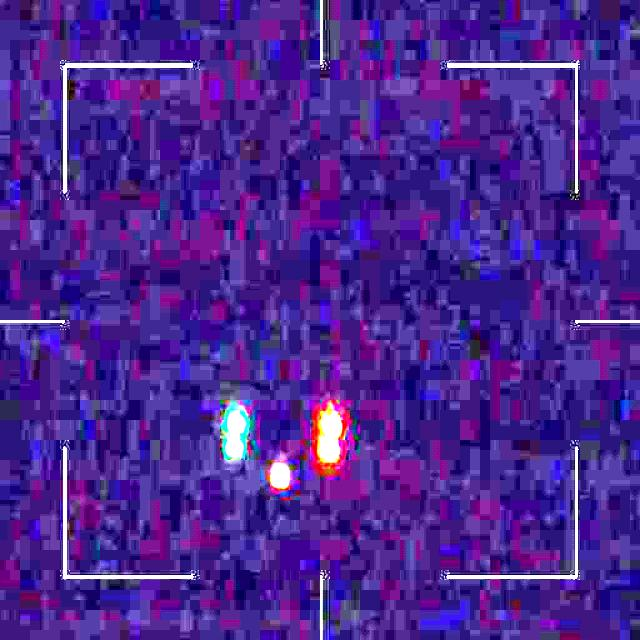bird: (225, 402, 344, 492)
